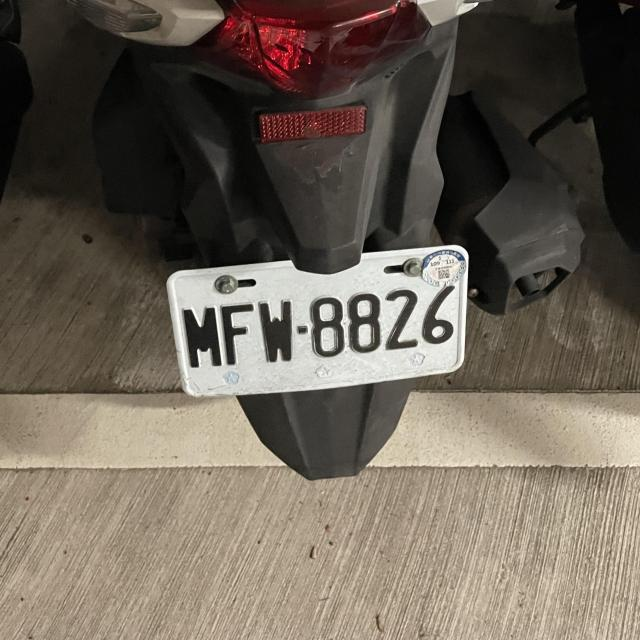W: (162, 243, 476, 403)
